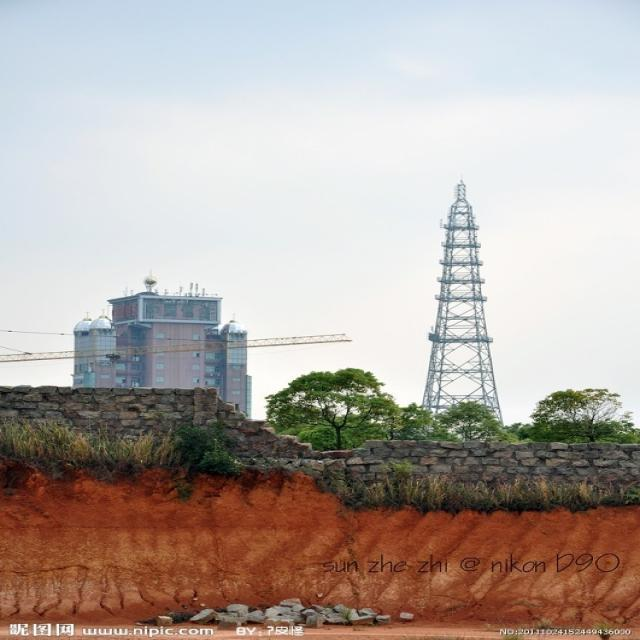non-critical vegetation: (422, 176, 511, 432)
